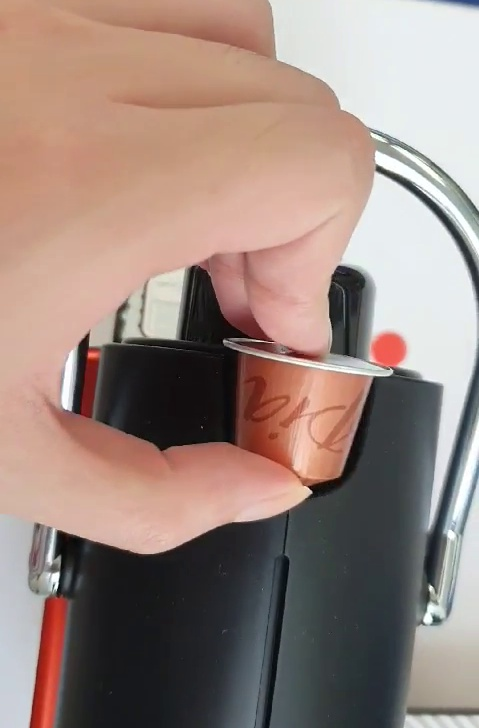capsule_6: (214, 330, 396, 492)
